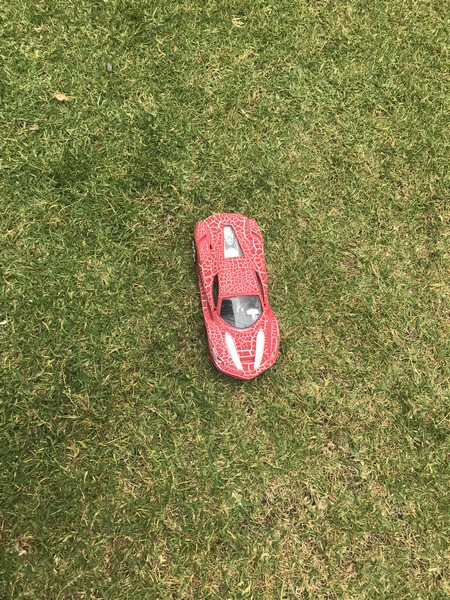RC: (190, 211, 284, 382)
